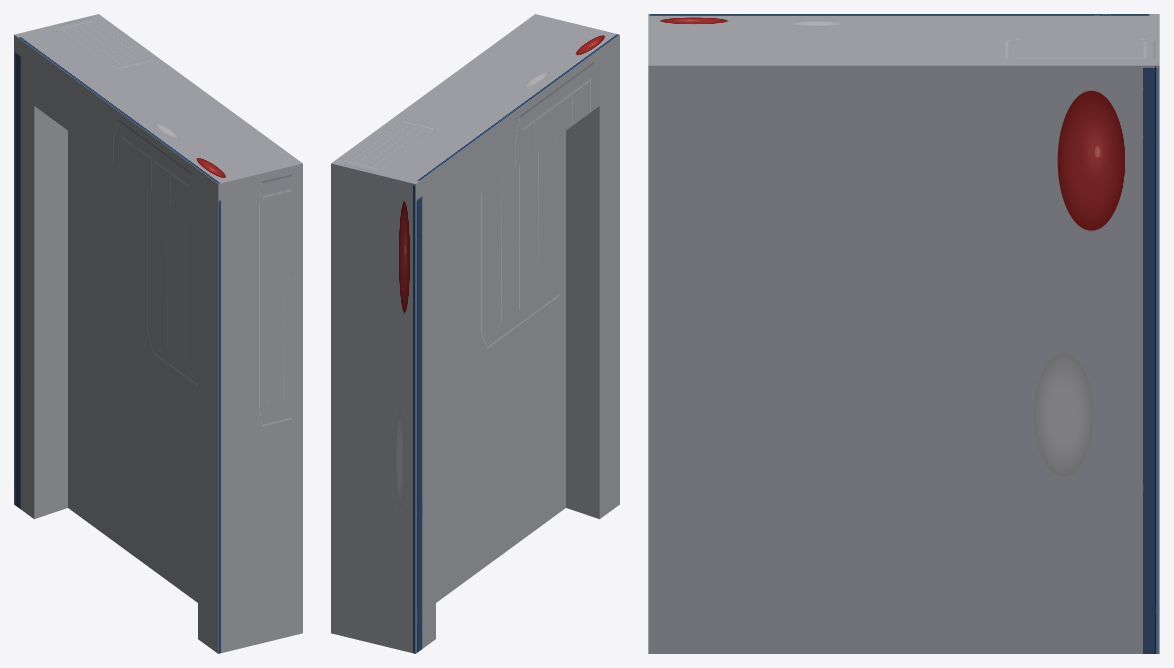
File: ML_Gate.fbx
3 renders of one model, left to right at view 1: azimuth 30°, elevation 25°; view 2: azimuth 150°, elevation 25°; view 3: azimuth 270°, elevation 25°, orthographic. The views are drawn at different scales.
Visible parts, largest first — view 1: Box003; view 2: Box003; view 3: Box003.
Boxes of the visible parts, x1,y1,x2,y2 form: Box003: (14, 14, 302, 653); Box003: (331, 14, 619, 653); Box003: (648, 14, 1159, 653).
Size of the model in its own units: 53.95 by 286 by 225.
